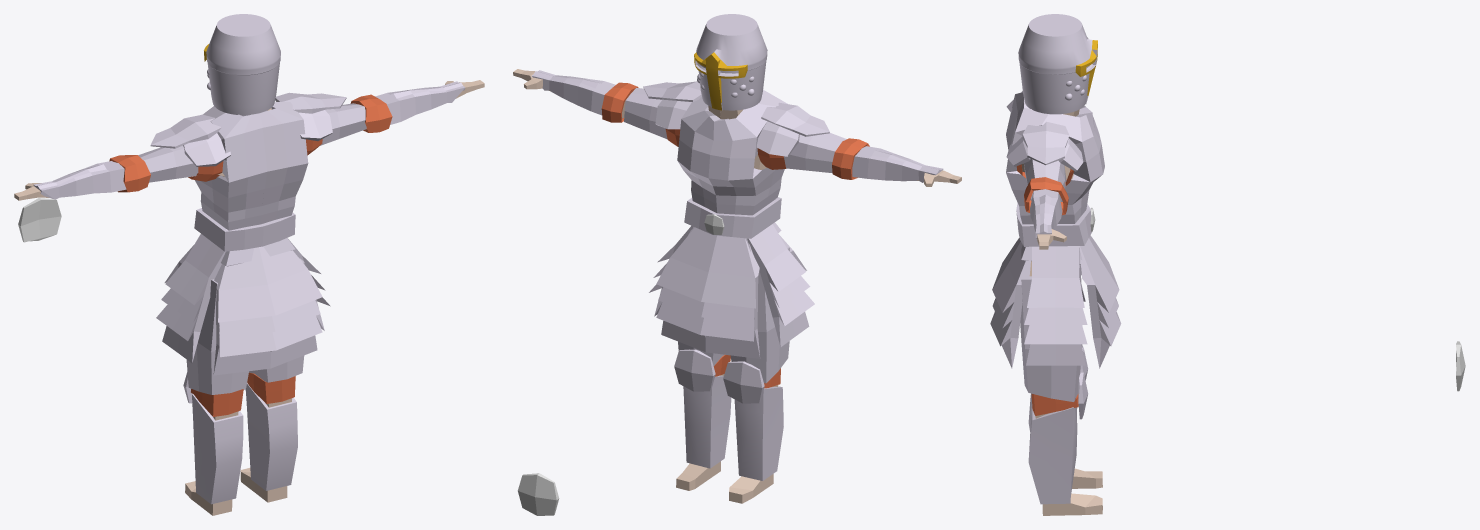
The model's file is Knight.fbx.
3 renders of one model, left to right at view 1: azimuth 30°, elevation 25°; view 2: azimuth 150°, elevation 25°; view 3: azimuth 270°, elevation 25°, orthographic. The views are drawn at different scales.
Visible parts, largest first — view 1: Cube.003, Cube.001, Cube.006, Sphere, Cube.008, Cube.004, Cube.002, Cube.005, Cube.010, knee, Cube, Cube.007 (+1 smaller); view 2: Cube.003, Cube.001, Cube.006, Sphere, Cube.008, Cube.004, knee, Cube.005, Cube, Cube.002, Cube.010, Cube.007 (+1 smaller); view 3: Cube.003, Sphere, Cube.001, Cube.006, Cube.008, Cube.002, Cube, Cube.010, Cube.004, knee, Cube.005, Cube.007.
Boxes of the visible parts, x1,y1,x2,y2 form: Cube.003: [156, 234, 330, 375]; Cube.001: [195, 102, 308, 266]; Cube.006: [192, 383, 297, 504]; Sphere: [204, 14, 280, 115]; Cube.008: [150, 92, 346, 181]; Cube.004: [33, 81, 465, 199]; Cube.002: [186, 258, 304, 394]; Cube.005: [138, 103, 366, 182]; Cube.010: [194, 208, 295, 251]; knee: [183, 372, 295, 416]; Cube: [14, 80, 484, 515]; Cube.007: [109, 94, 392, 192]; Cube.003: [649, 224, 814, 358]; Cube.001: [677, 88, 787, 252]; Cube.006: [683, 375, 783, 480]; Sphere: [694, 14, 767, 110]; Cube.008: [643, 81, 829, 169]; Cube.004: [531, 70, 943, 182]; knee: [674, 349, 780, 403]; Cube.005: [624, 88, 846, 173]; Cube: [513, 69, 961, 503]; Cube.002: [678, 247, 789, 383]; Cube.010: [684, 197, 781, 238]; Cube.007: [601, 82, 869, 179]; Cube.003: [990, 235, 1121, 368]; Sphere: [1018, 14, 1097, 114]; Cube.001: [1006, 92, 1104, 264]; Cube.006: [1028, 393, 1077, 504]; Cube.008: [1006, 91, 1083, 185]; Cube.002: [1020, 265, 1082, 401]; Cube: [1021, 109, 1102, 515]; Cube.010: [1016, 203, 1091, 246]; Cube.004: [1030, 189, 1062, 238]; knee: [1031, 345, 1088, 419]; Cube.005: [1024, 159, 1066, 201]; Cube.007: [1024, 177, 1068, 215].
Bounding box in the file's own units: 1437 × 1406 × 1281.
